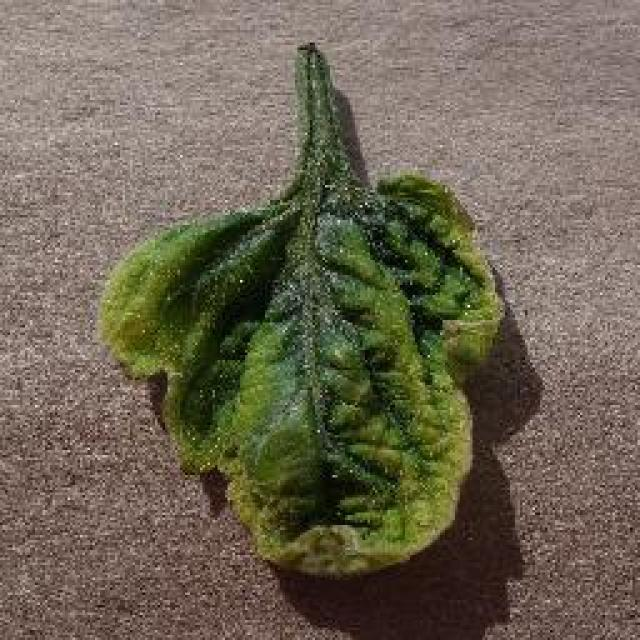Tomato yellow virus leaf: (100, 173, 505, 575)
